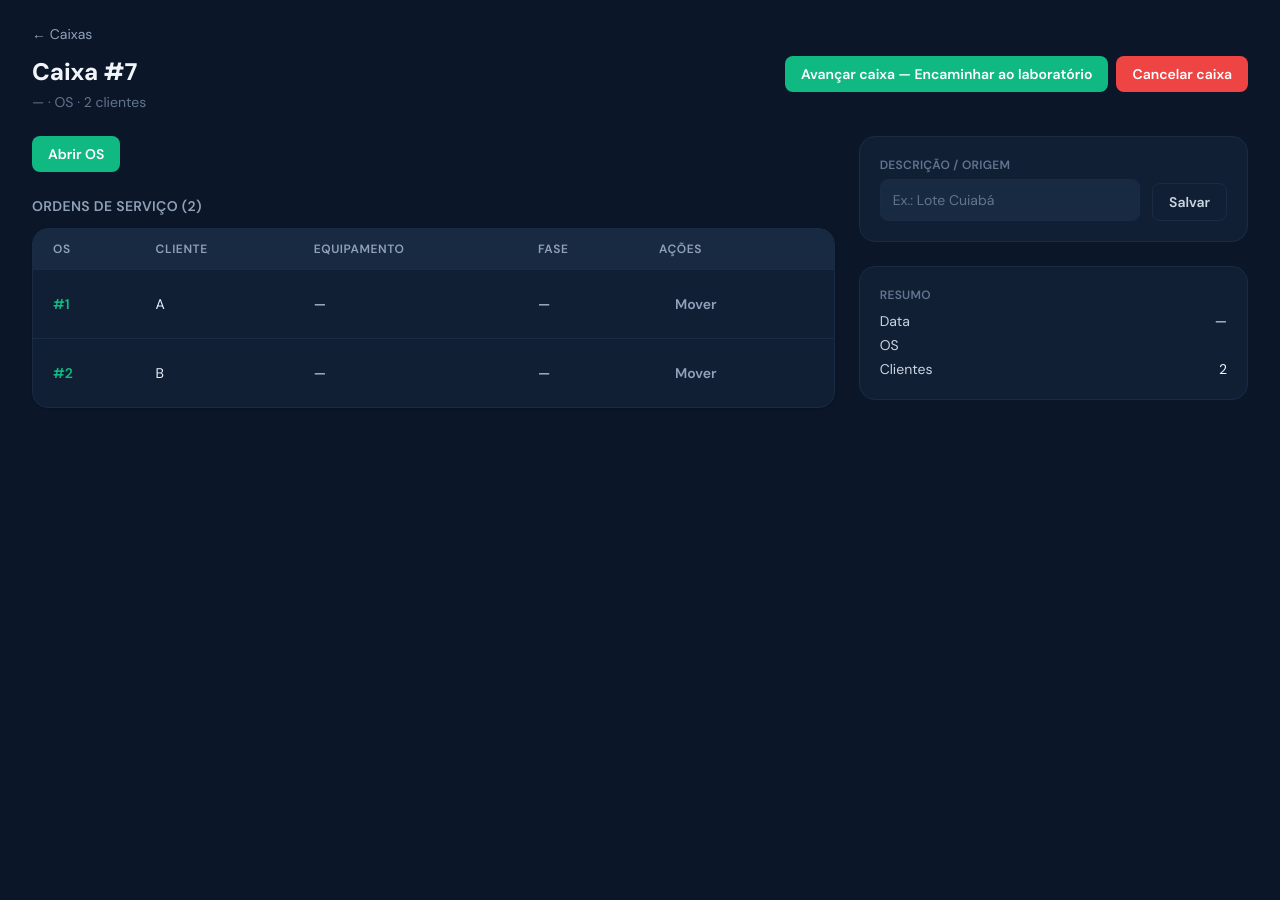
Scenario: CaixaDetailPage — cliente principal ao avancar Recebido multi-cliente › pede cliente principal ao avancar caixa recebido multi-cliente
The image size is (1280, 900).
Click the button "Avançar caixa — Encaminhar ao laboratório".
click(947, 74)  # box [785,56,1108,92]
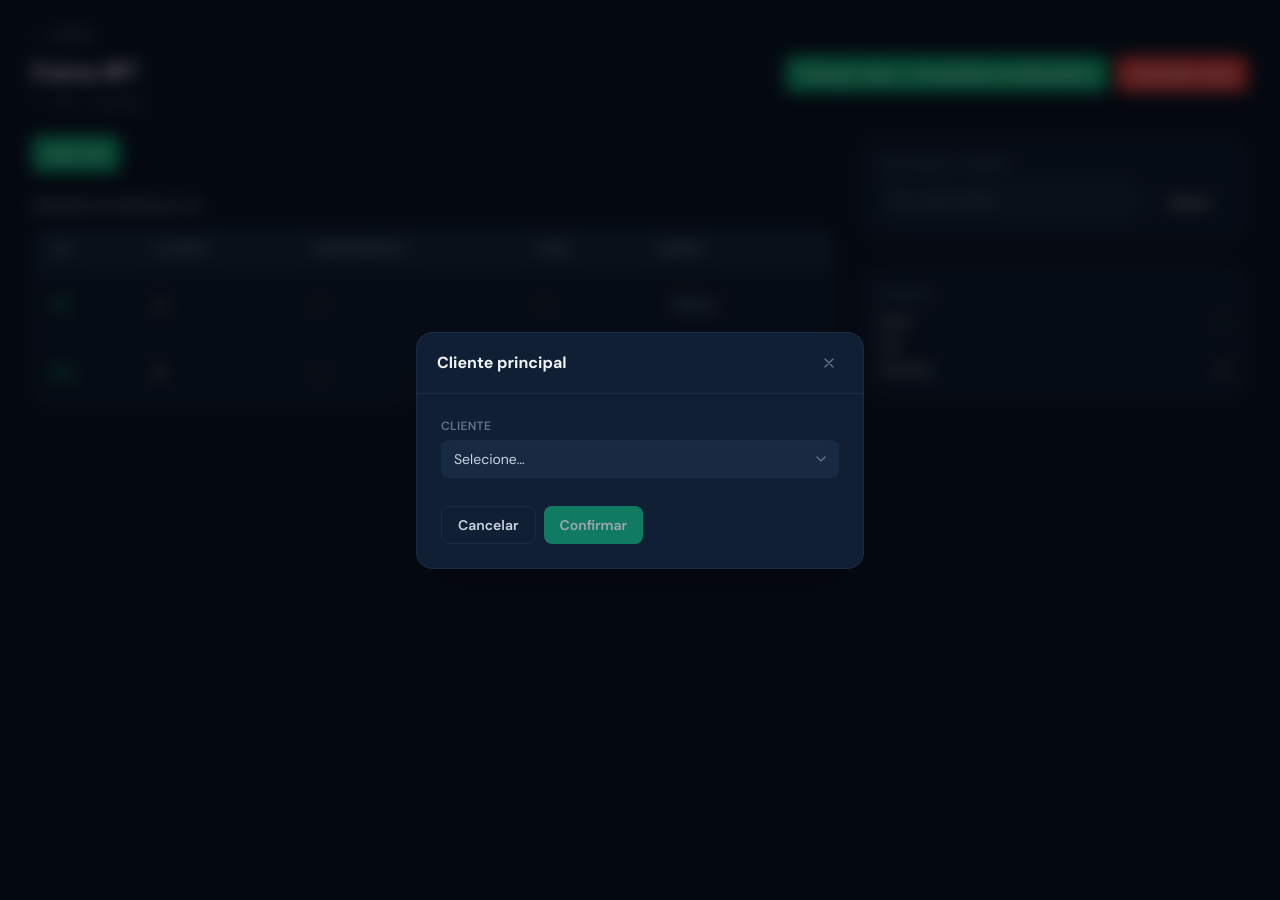
Result: the heading "Cliente principal" is shown at [437,350,567,374]
